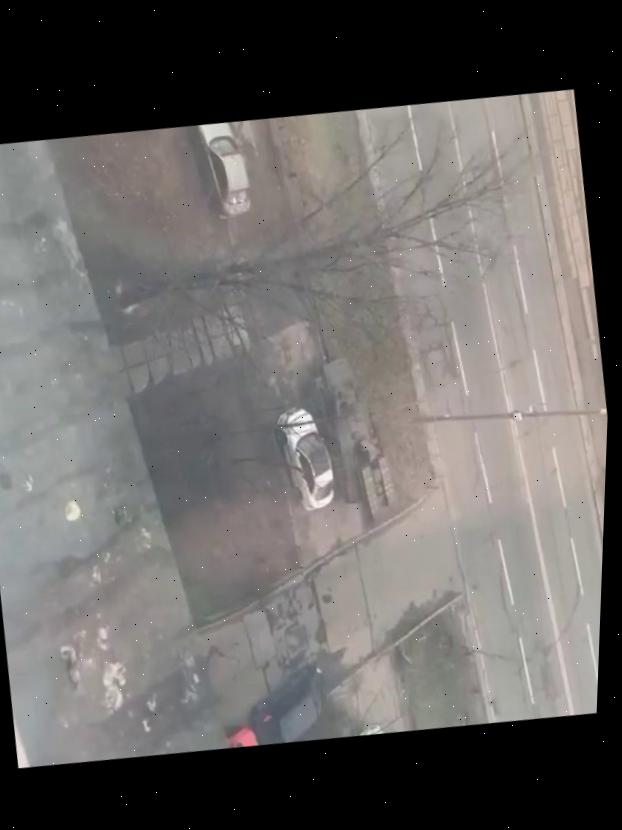car: (267, 402, 341, 516), (242, 663, 331, 749), (186, 119, 255, 223)
tank: (298, 350, 402, 529)
